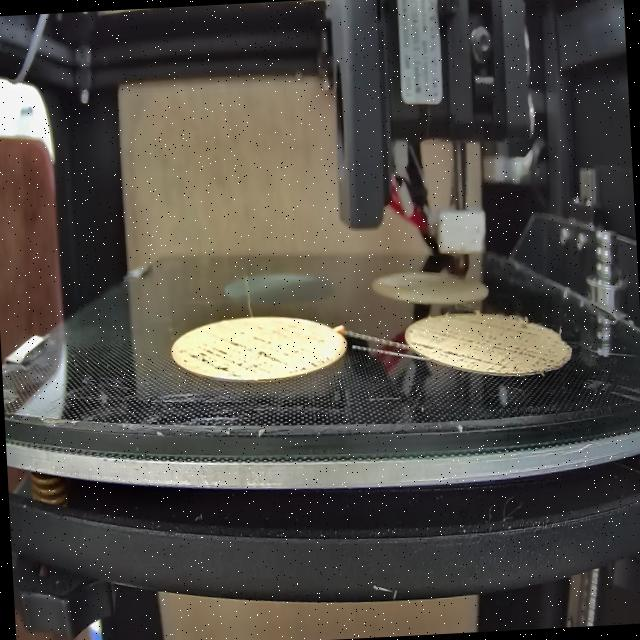under_extrusion: (409, 318, 548, 375), (174, 330, 328, 379)
